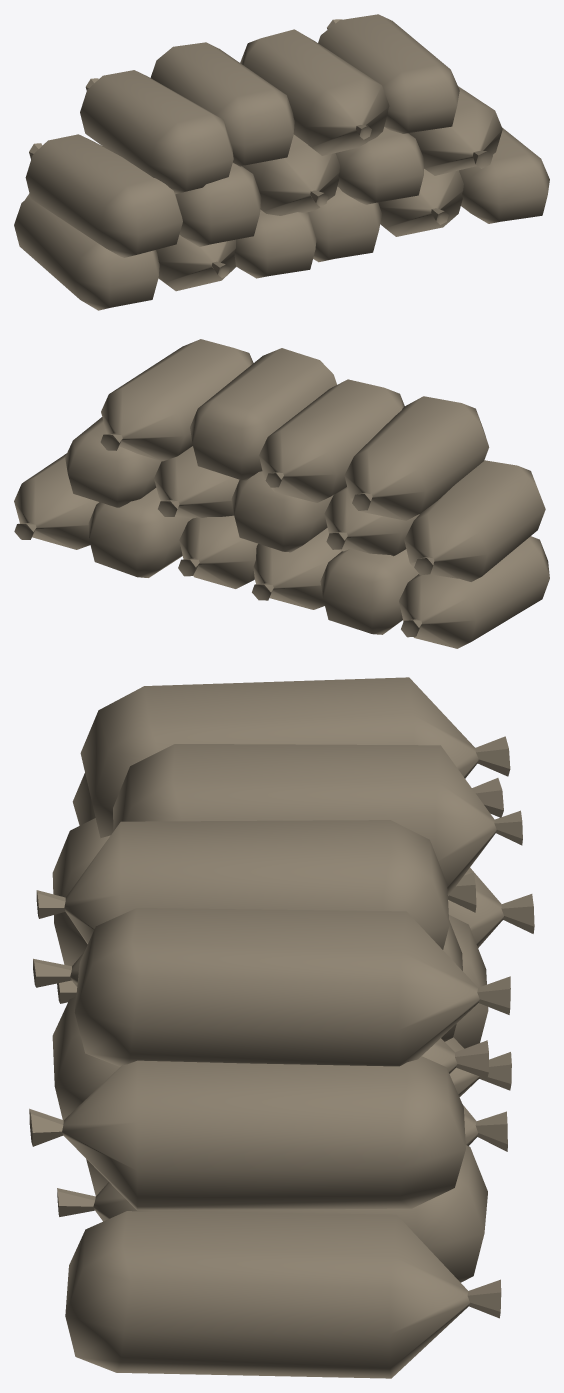
Rendered from mesh_BagsOfHair.fbx.
3 renders of one model, top to bottom at view 1: azimuth 30°, elevation 25°; view 2: azimuth 150°, elevation 25°; view 3: azimuth 270°, elevation 25°, orthographic. The views are drawn at different scales.
Parts seen in each view (by area): view 1: mesh_BagsOfHair; view 2: mesh_BagsOfHair; view 3: mesh_BagsOfHair.
Boxes of the visible parts, x1,y1,x2,y2 form: mesh_BagsOfHair: [14, 14, 549, 310]; mesh_BagsOfHair: [14, 339, 549, 648]; mesh_BagsOfHair: [29, 677, 534, 1378].
Bounding box in the file's own units: 128 × 47.11 × 59.96.
